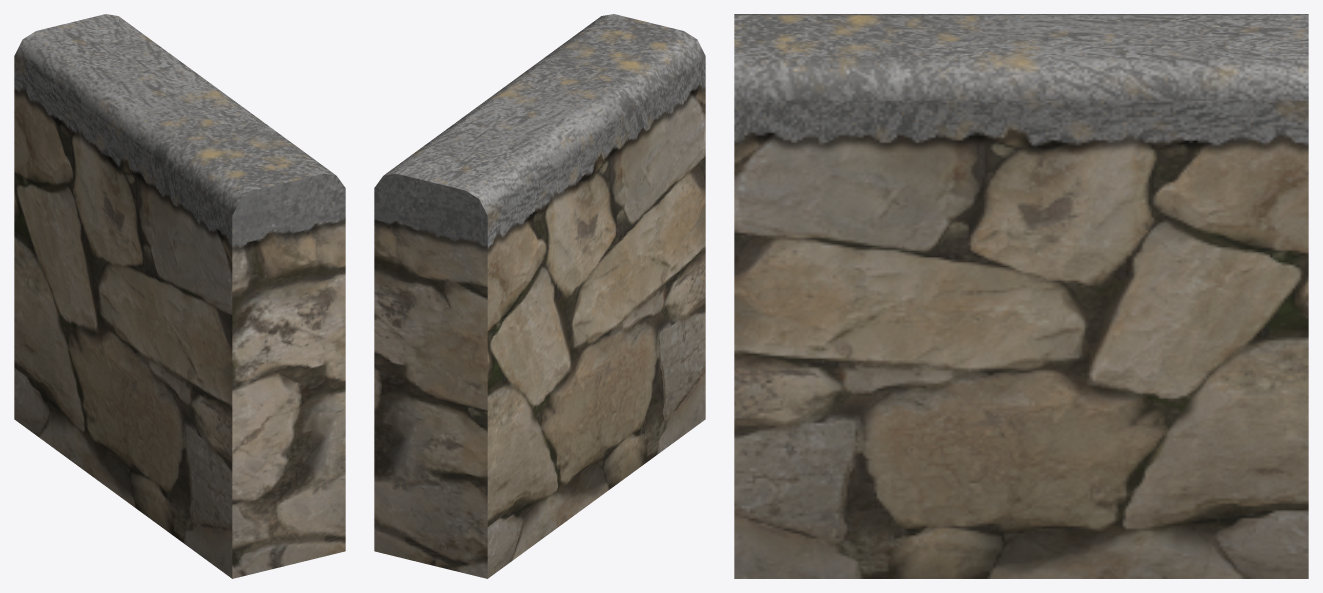
Rendered from MB_Fence_Stone_1m_01.fbx.
3 renders of one model, left to right at view 1: azimuth 30°, elevation 25°; view 2: azimuth 150°, elevation 25°; view 3: azimuth 270°, elevation 25°, orthographic. The views are drawn at different scales.
Visible parts, largest first — view 1: MB_Fence_Stone_1m_01; view 2: MB_Fence_Stone_1m_01; view 3: MB_Fence_Stone_1m_01.
Boxes of the visible parts, <box> form: MB_Fence_Stone_1m_01: <box>14,14,345,578</box>; MB_Fence_Stone_1m_01: <box>374,14,705,578</box>; MB_Fence_Stone_1m_01: <box>734,14,1308,578</box>.
Bounding box in the file's own units: 30 × 96.9 × 100.
